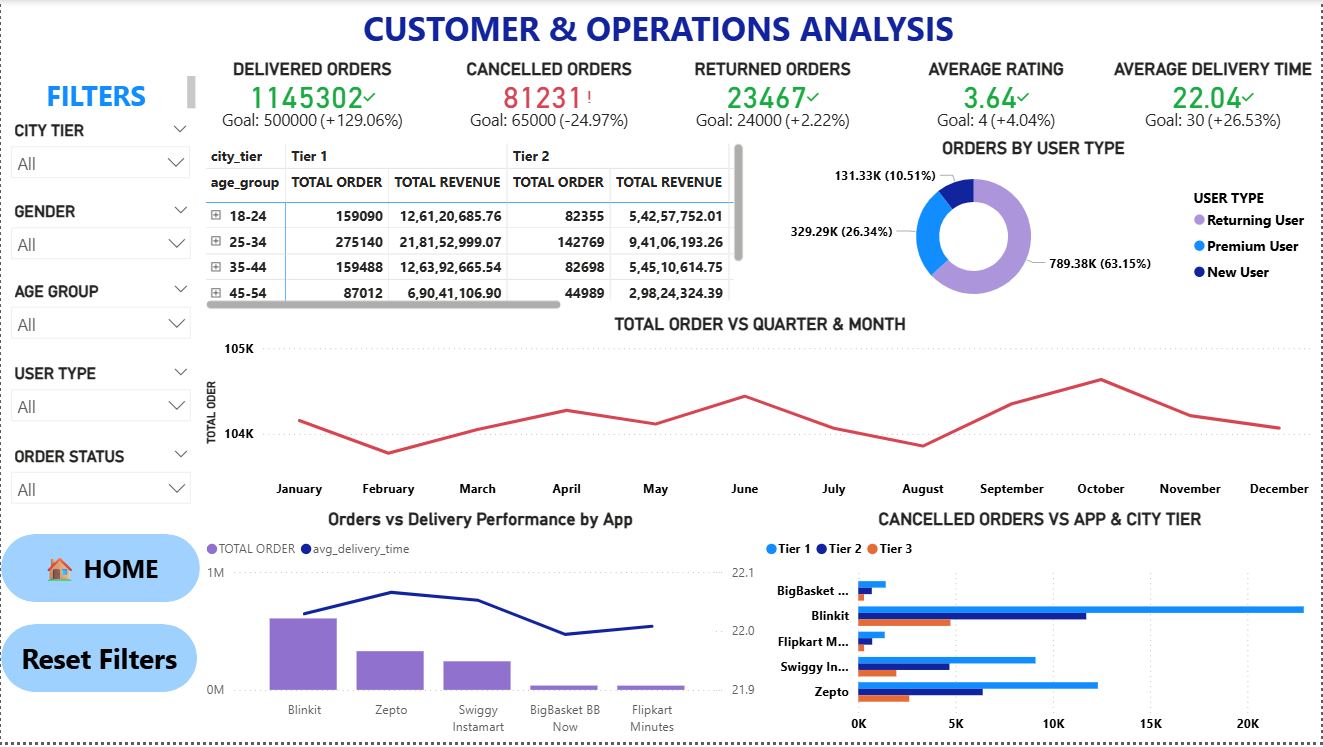

What the dashboard file says about the page in this screenshot:
{"tool":"powerbi","page":{"name":"Analysis","canvas":[1280,720],"ordinal":1},"visuals":[{"type":"slicer","fields":{"Values":["qcommerce_orders_2025.gender"]},"box":[0,240,193.3,71.7],"z":0},{"type":"slicer","fields":{"Values":["qcommerce_orders_2025.age_group"]},"box":[0,353.3,193.3,70],"z":1000},{"type":"slicer","fields":{"Values":["qcommerce_orders_2025.city_tier","qcommerce_orders_2025.city"]},"box":[0,145,193.3,71.7],"z":2000},{"type":"slicer","fields":{"Values":["qcommerce_orders_2025.order_status"]},"box":[0,576.7,195,71.7],"z":3000},{"type":"slicer","fields":{"Values":["qcommerce_orders_2025.user_type"]},"box":[0,465.9,193.3,71.7],"z":4000},{"type":"textbox","box":[381.7,0,510,45],"z":5000},{"type":"textbox","box":[0,68.3,193.3,43.3],"z":6000},{"type":"kpi","title":"DELIVERED ORDERS","fields":{"Indicator":["calculations.Delivered orders"],"Goal":["Targets.dt"],"TrendLine":["DATE.Date.Variation.Date Hierarchy.Year"]},"box":[195,45,215,85],"z":7000},{"type":"kpi","title":"CANCELLED ORDERS","fields":{"Indicator":["calculations.Cancelled orders"],"Goal":["Targets.CT"],"TrendLine":["DATE.Date.Variation.Date Hierarchy.Year"]},"box":[418.3,45,210,85],"z":8000},{"type":"kpi","title":"RETURNED ORDERS","fields":{"Indicator":["calculations.Returned orders"],"Goal":["Targets.RT"],"TrendLine":["DATE.Date.Variation.Date Hierarchy.Year"]},"box":[636.7,45,210,85],"z":9000},{"type":"kpi","title":"AVERAGE RATING","fields":{"Indicator":["calculations.RATING"],"Goal":["Targets.RATING T"],"TrendLine":["DATE.Date.Variation.Date Hierarchy.Year"]},"box":[853.3,45,210,85],"z":10000},{"type":"kpi","title":"DELIVERY TIME","fields":{"Indicator":["calculations.avg_delivery_time"],"Goal":["Targets.ADT"],"TrendLine":["DATE.Date.Variation.Date Hierarchy.Year"]},"box":[1070,45,210,85],"z":11000},{"type":"pivotTable","fields":{"Columns":["qcommerce_orders_2025.city_tier"],"Rows":["qcommerce_orders_2025.age_group","qcommerce_orders_2025.gender","qcommerce_orders_2025.user_type"],"Values":["calculations.TOTAL ORDER","calculations.TOTAL REVENUE"]},"box":[195,513.3,518.3,206.7],"z":12000},{"type":"donutChart","title":"ORDERS BY USER TYPE","fields":{"Category":["qcommerce_orders_2025.user_type"],"Y":["calculations.TOTAL ORDER"]},"box":[736.7,133.3,543.3,191.7],"z":13000},{"type":"lineChart","title":"TOTAL ORDER VS QUARTER & MONTH","fields":{"Y":["calculations.TOTAL ORDER"],"Category":["DATE.Date.Variation.Date Hierarchy.Quarter","DATE.Date.Variation.Date Hierarchy.Month"]},"box":[193.3,325,1086.7,188.3],"z":14000},{"type":"lineStackedColumnComboChart","title":"Orders vs Delivery Performance by App","fields":{"Category":["qcommerce_orders_2025.app"],"Y":["calculations.TOTAL ORDER"],"Y2":["calculations.avg_delivery_time"]},"box":[195,133.3,541.7,191.7],"z":15000},{"type":"clusteredBarChart","title":"CANCELLED ORDERS VS APP & CITY TIER","fields":{"Category":["qcommerce_orders_2025.app"],"Series":["qcommerce_orders_2025.city_tier"],"Y":["calculations.Cancelled orders"]},"box":[713.3,513.3,566.7,206.7],"z":16000},{"type":"actionButton","title":"Reset Filters","box":[0,0,187,42],"z":17000},{"type":"actionButton","box":[1086.7,0,187,42],"z":18000}]}

Visuals, with their boxes in screenshot pixels (x1, y1, x2, y2), scaled from the page's 1280x720 canvas onto the 1323x747 screenshot:
slicer - qcommerce_orders_2025.gender: box=[0, 249, 200, 323]
slicer - qcommerce_orders_2025.age_group: box=[0, 367, 200, 439]
slicer - qcommerce_orders_2025.city_tier x qcommerce_orders_2025.city: box=[0, 150, 200, 225]
slicer - qcommerce_orders_2025.order_status: box=[0, 598, 202, 673]
slicer - qcommerce_orders_2025.user_type: box=[0, 483, 200, 558]
textbox: box=[395, 0, 922, 47]
textbox: box=[0, 71, 200, 116]
"DELIVERED ORDERS" kpi: box=[202, 47, 424, 135]
"CANCELLED ORDERS" kpi: box=[432, 47, 649, 135]
"RETURNED ORDERS" kpi: box=[658, 47, 875, 135]
"AVERAGE RATING" kpi: box=[882, 47, 1099, 135]
"DELIVERY TIME" kpi: box=[1106, 47, 1322, 135]
pivotTable - qcommerce_orders_2025.city_tier x qcommerce_orders_2025.age_group: box=[202, 533, 737, 746]
"ORDERS BY USER TYPE" donutChart: box=[761, 138, 1322, 337]
"TOTAL ORDER VS QUARTER & MONTH" lineChart: box=[200, 337, 1322, 533]
"Orders vs Delivery Performance by App" lineStackedColumnComboChart: box=[202, 138, 761, 337]
"CANCELLED ORDERS VS APP & CITY TIER" clusteredBarChart: box=[737, 533, 1322, 746]
"Reset Filters" actionButton: box=[0, 0, 193, 44]
actionButton: box=[1123, 0, 1316, 44]
